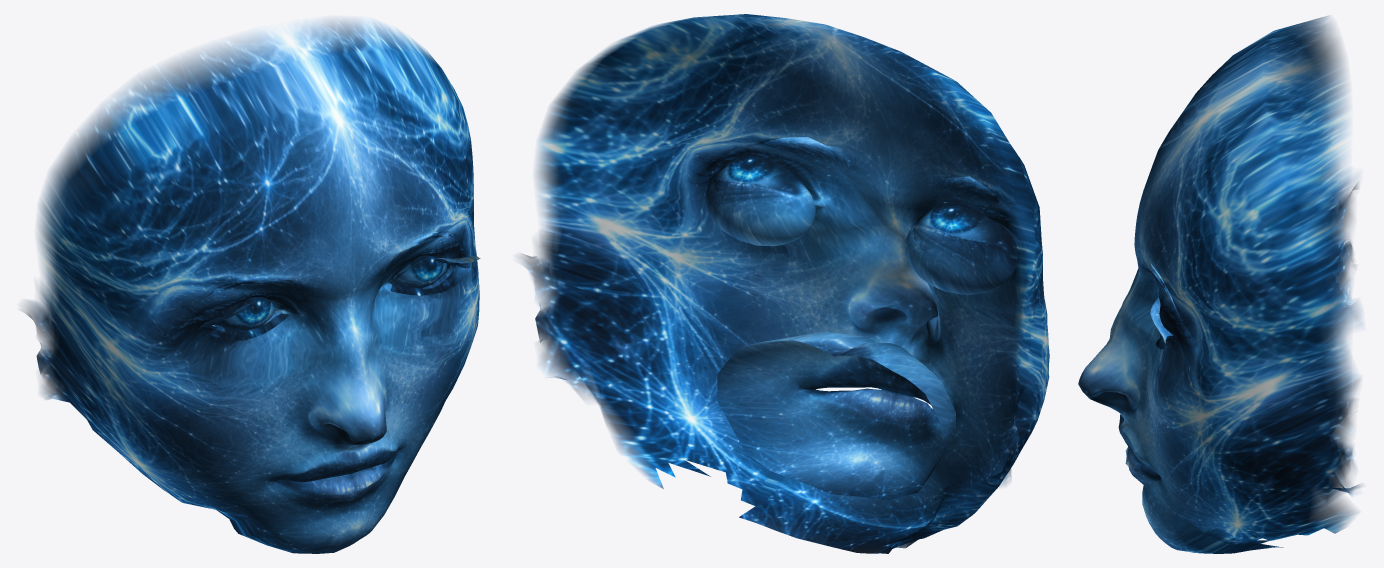
Rendered from user-mask-b358fbc4aeb1.glb.
3 views of the same model, side by side, from view 1: azimuth 30°, elevation 25°; view 2: azimuth 150°, elevation 25°; view 3: azimuth 270°, elevation 25° (orthographic). The views are drawn at different scales.
Parts seen in each view (by area): view 1: UserAcceptedMask; view 2: UserAcceptedMask; view 3: UserAcceptedMask.
Part boxes in pixels (box(x1,y1,x2,y2)): UserAcceptedMask: box(22, 19, 480, 553); UserAcceptedMask: box(520, 14, 1049, 553); UserAcceptedMask: box(1078, 16, 1360, 553).
Size of the model in its own units: 0.2346 by 0.2356 by 0.1272.
Materials: 1 (1 with a texture image).
